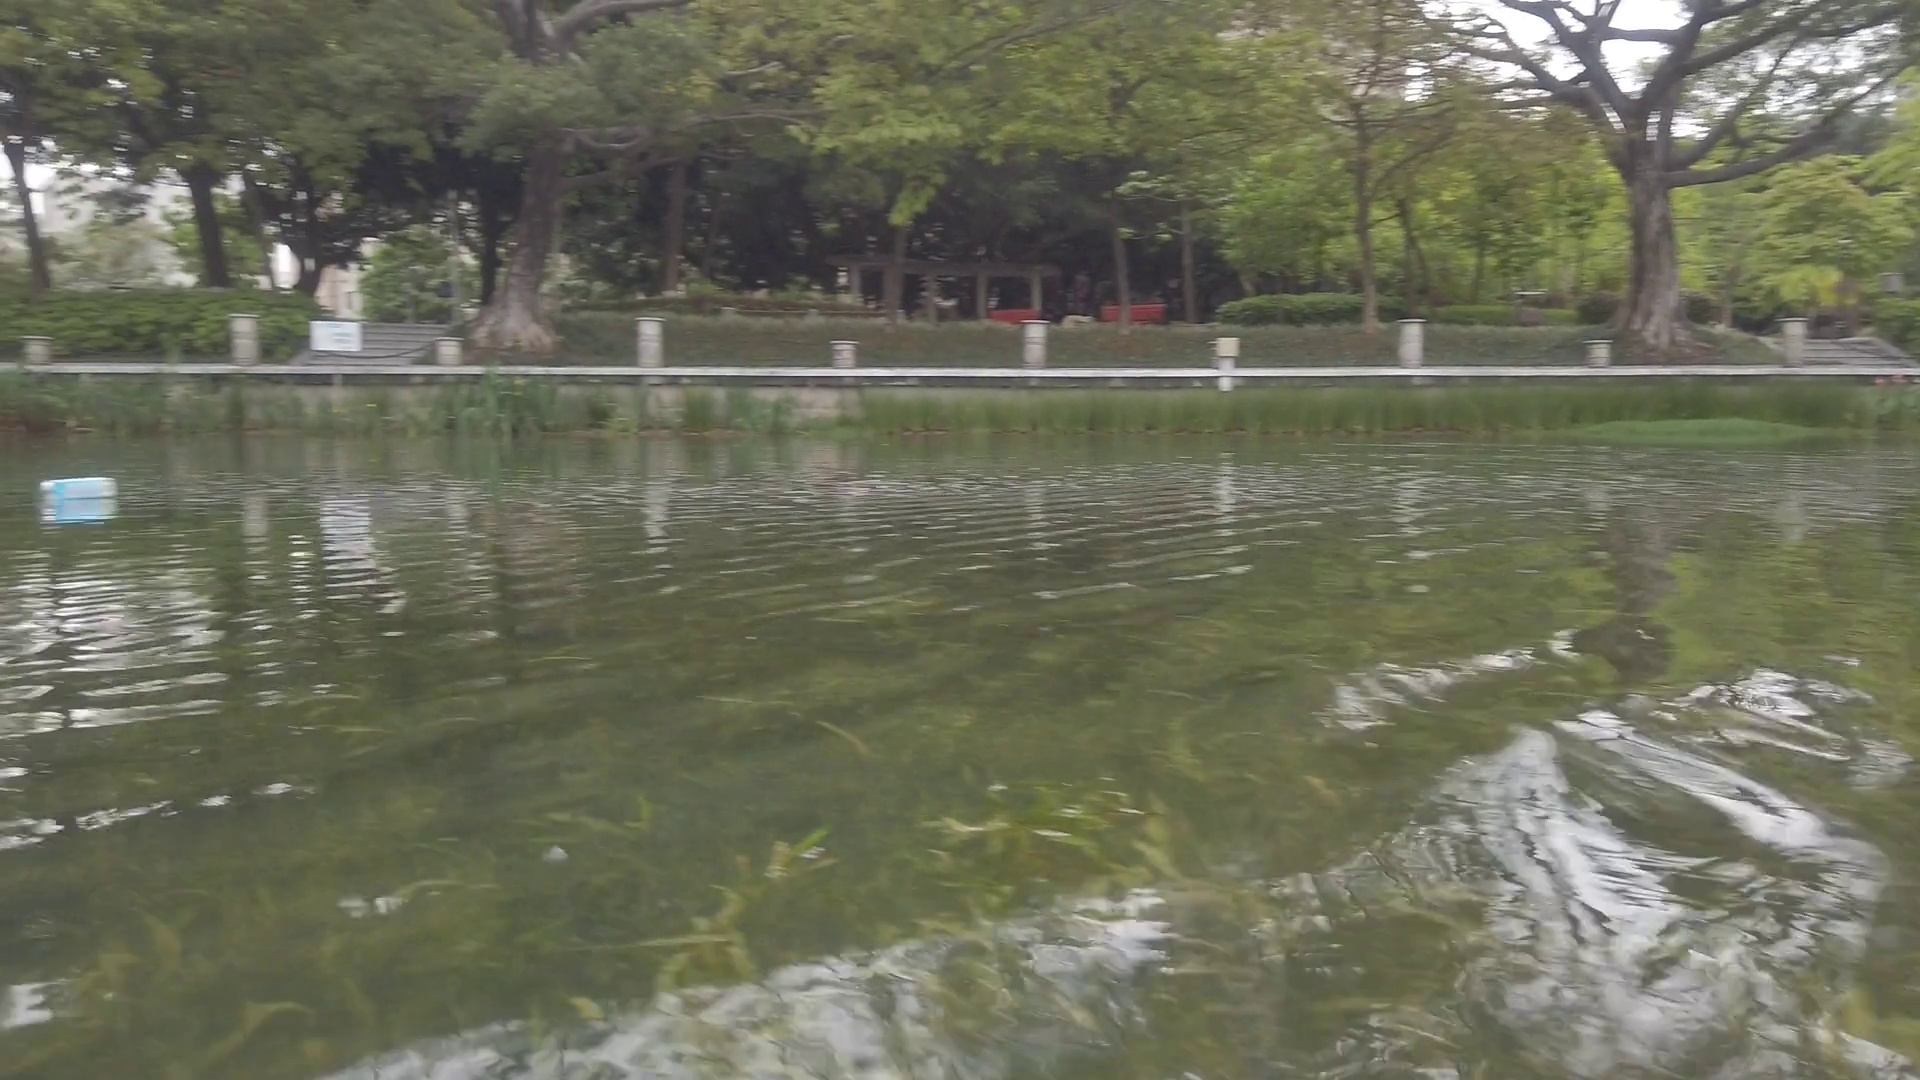carton: (41, 479, 123, 500)
